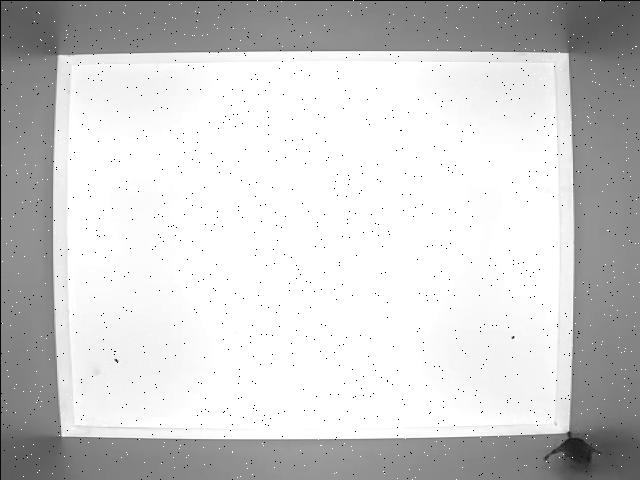Tikus: (542, 430, 604, 469)
